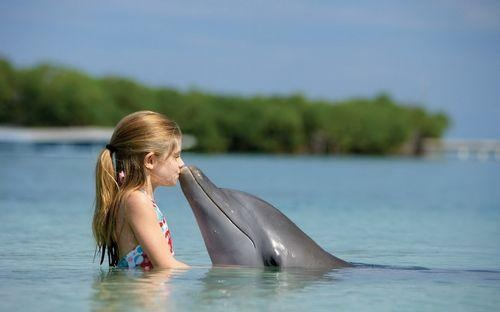fish: (183, 162, 359, 275)
person: (87, 109, 190, 269)
